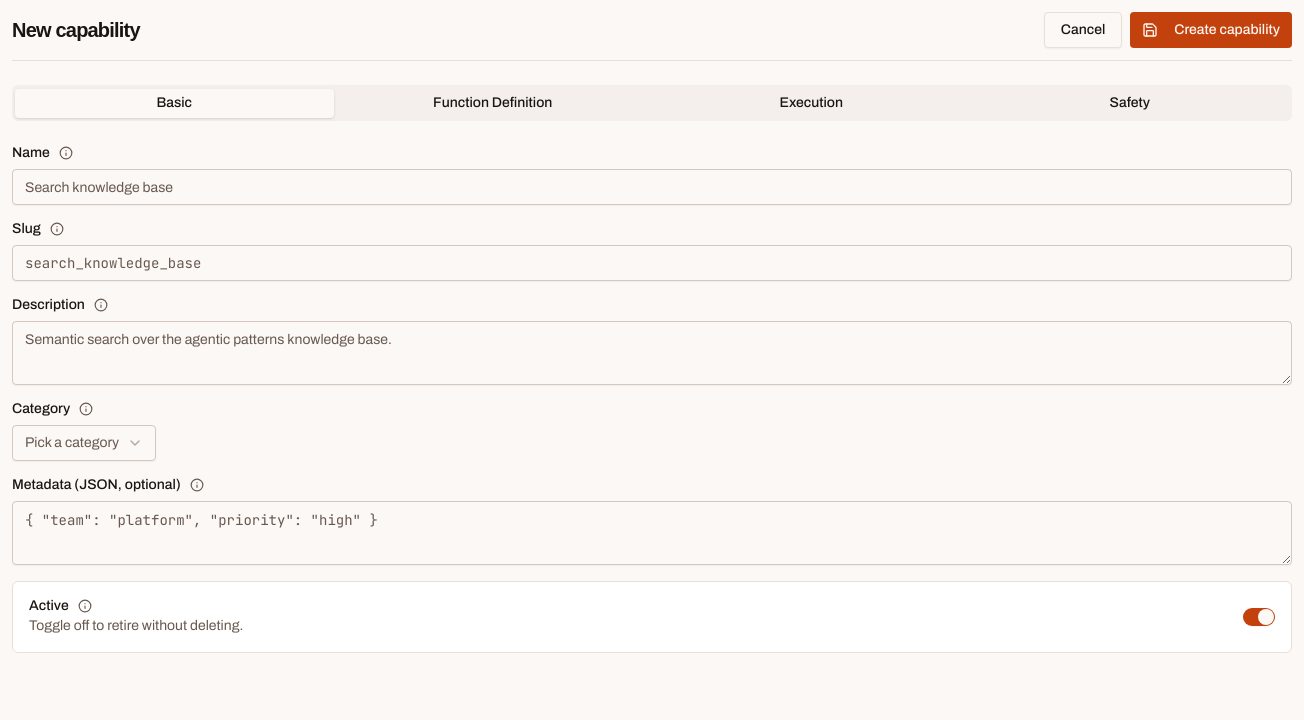
Test case: CapabilityForm — Execution tab › executionType select › renders all three execution type options
The image size is (1304, 720).
Click the tab "Execution". click: (811, 103)
box: [652,88,970,118]
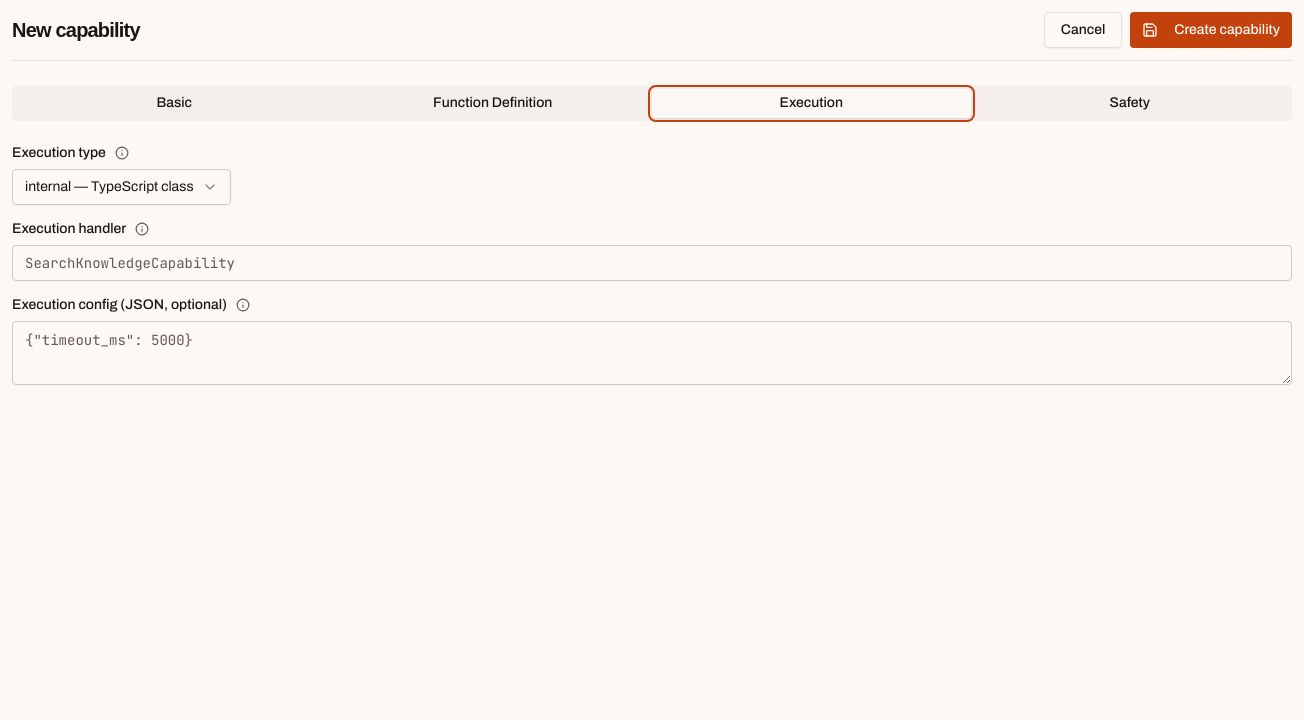
Click the dropdown. click: (121, 187)
box: [12,169,230,205]
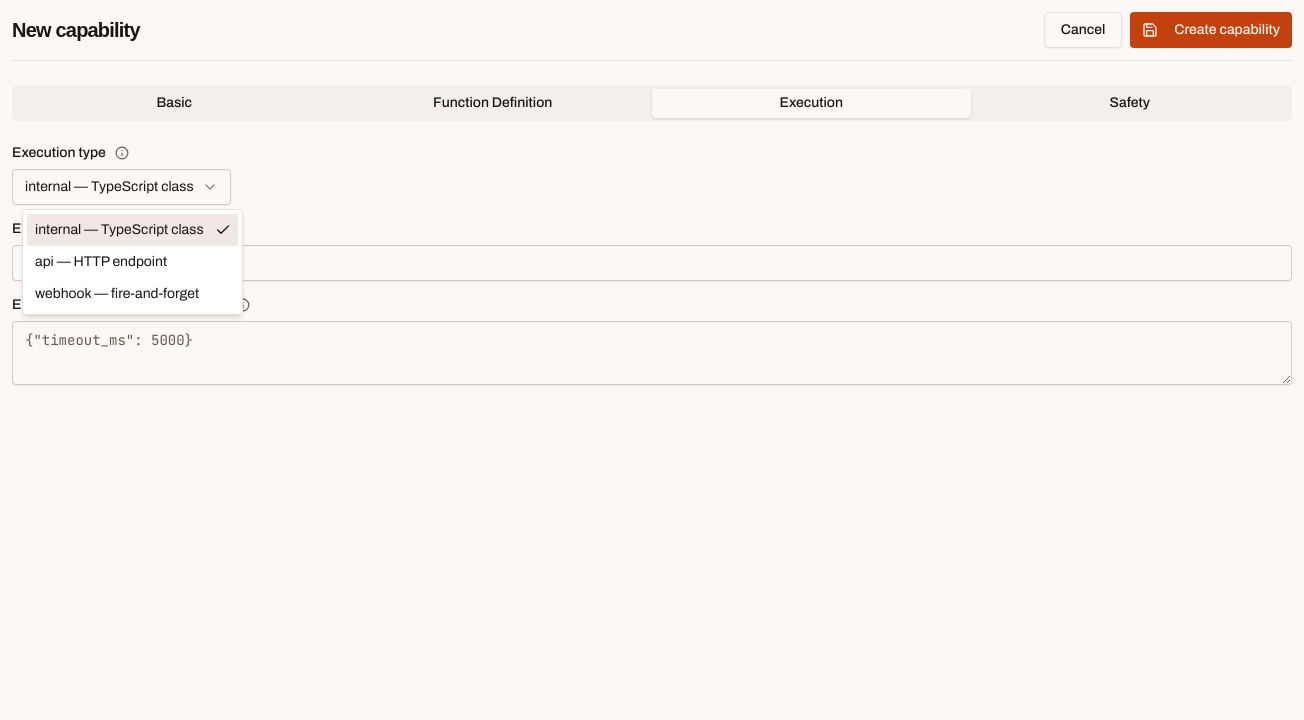
Result: the option "internal — TypeScript class" is shown at [27,214,238,246]
Result: the option "api — HTTP endpoint" is shown at [35,254,167,269]
Result: the option "webhook — fire-and-forget" is shown at [35,286,199,301]
